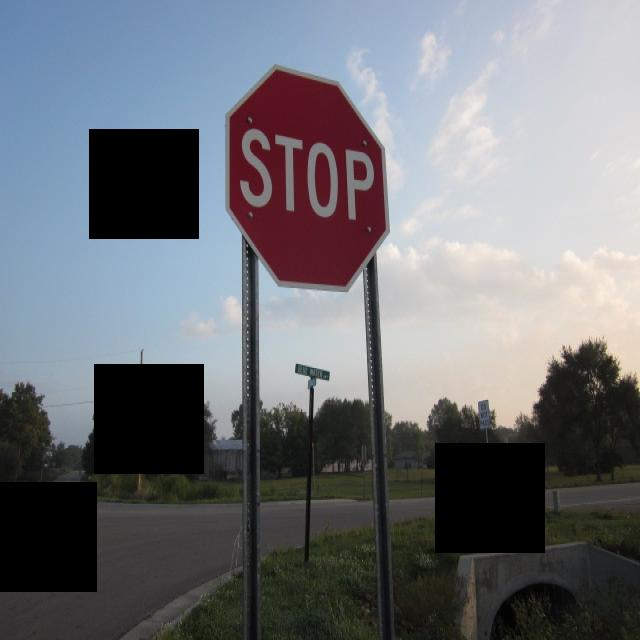stop: (226, 62, 392, 290)
